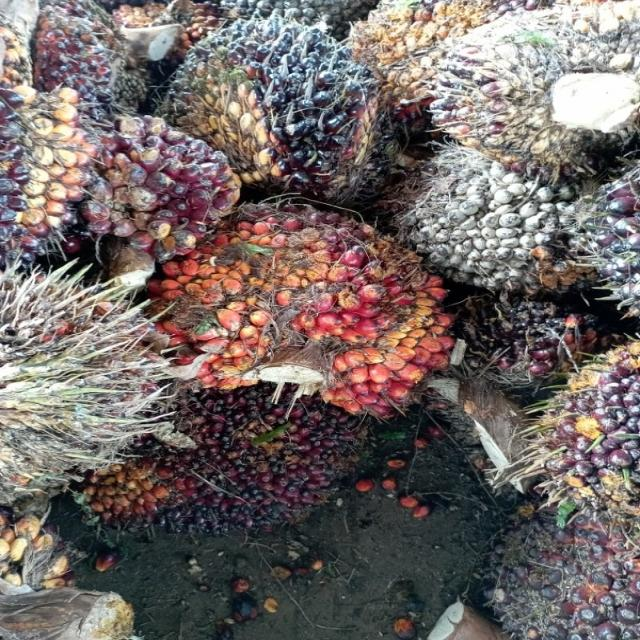fraksi 00: (133, 0, 459, 228), (366, 126, 610, 310)
fraksi 1: (81, 79, 274, 285)
fraksi 3: (136, 167, 480, 456)
